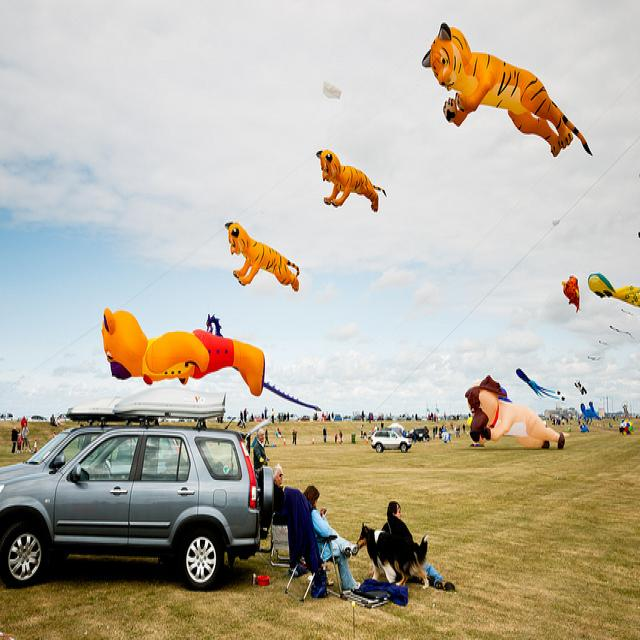Vehicle: (2, 429, 260, 590), (1, 423, 113, 483), (371, 430, 412, 454), (406, 428, 429, 442), (380, 423, 404, 436), (408, 429, 425, 441), (290, 414, 300, 422)
